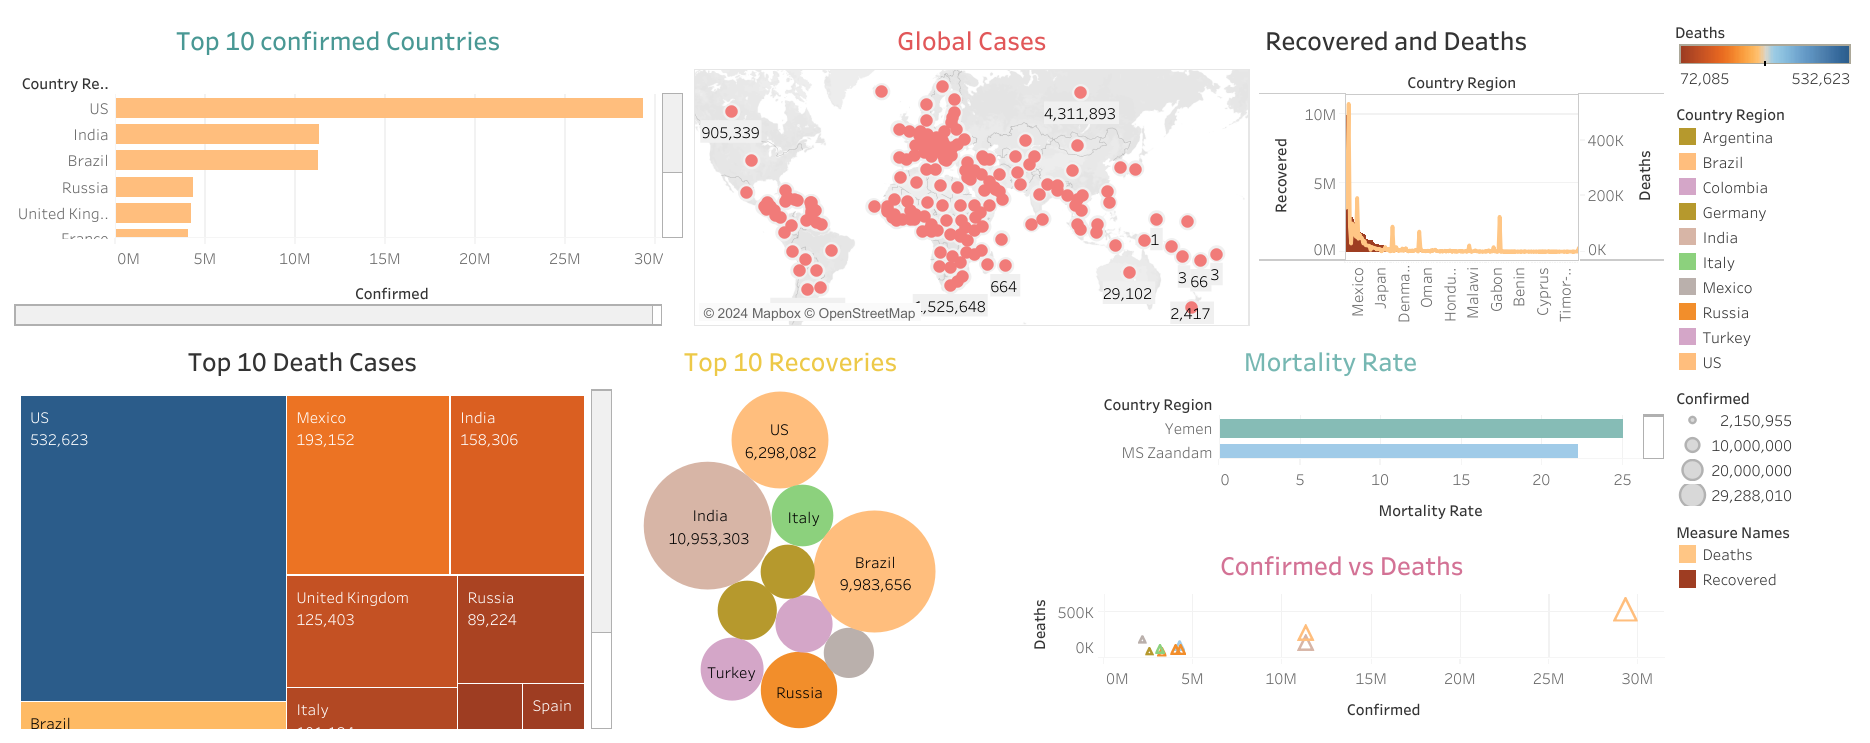

What the dashboard file says about the page in this screenshot:
{"tool":"tableau","page":{"name":"Dashboard 1","canvas":[1000,1000],"units":"permille","ordinal":0},"visuals":[{"type":"worksheet","title":"Top 10 Confirmed Countries","mark":"Automatic","rows":["Country Region"],"cols":["Confirmed"],"box":[4.8,10,367.1,434.4]},{"type":"worksheet","title":"Global Cases","mark":"Automatic","box":[371.9,10,306.4,434.4]},{"type":"worksheet","title":"Dual Axis","mark":"Line","rows":["Recovered","Deaths"],"cols":["Country Region"],"box":[678.2,10,224.6,434.4]},{"type":"legend","title":"Top 10 Death Cases","param":"[federated.1lehj6w1o3p8m61gr52o00f4w0u1].[sum:Deaths:qk]","box":[902.8,10,92.3,91.1]},{"type":"legend","title":"Top 10 Recovered Cases","param":"[federated.1lehj6w1o3p8m61gr52o00f4w0u1].[none:Country Region:nk]","box":[902.8,101.1,92.3,299.6]},{"type":"legend","title":"Confirmed vs Deaths","param":"[federated.1lehj6w1o3p8m61gr52o00f4w0u1].[sum:Confirmed:qk]","box":[902.8,400.8,92.3,142.3]},{"type":"worksheet","title":"Top 10 Death Cases","mark":"Automatic","box":[4.8,444.4,328.3,545.6]},{"type":"worksheet","title":"Top 10 Recovered Cases","mark":"Circle","box":[333.1,444.4,214.9,545.6]},{"type":"worksheet","title":"Mortality rate","mark":"Automatic","rows":["Country Region"],"cols":["Mortality Rate"],"box":[548,444.4,354.8,277.1]},{"type":"legend","title":"Dual Axis","param":"[federated.1lehj6w1o3p8m61gr52o00f4w0u1].[:Measure Names]","box":[902.8,543.1,92.3,89.9]},{"type":"worksheet","title":"Confirmed vs Deaths","mark":"Automatic","rows":["Deaths"],"cols":["Confirmed"],"box":[548,721.6,354.8,268.5]}]}

Visuals, with their boxes on the dashboard's canvas, which has no fixed pixel size, in thousandths of its width and height (x1, y1, x2, y2). These are canvas units, not pixel positions in the 1870x743 screenshot, which may show the page scaled, cropped or inside an application window:
"Top 10 Confirmed Countries" worksheet: <bbox>5, 10, 372, 444</bbox>
"Global Cases" worksheet: <bbox>372, 10, 678, 444</bbox>
"Dual Axis" worksheet (Line marks): <bbox>678, 10, 903, 444</bbox>
"Top 10 Death Cases" legend: <bbox>903, 10, 995, 101</bbox>
"Top 10 Recovered Cases" legend: <bbox>903, 101, 995, 401</bbox>
"Confirmed vs Deaths" legend: <bbox>903, 401, 995, 543</bbox>
"Top 10 Death Cases" worksheet: <bbox>5, 444, 333, 990</bbox>
"Top 10 Recovered Cases" worksheet (Circle marks): <bbox>333, 444, 548, 990</bbox>
"Mortality rate" worksheet: <bbox>548, 444, 903, 722</bbox>
"Dual Axis" legend: <bbox>903, 543, 995, 633</bbox>
"Confirmed vs Deaths" worksheet: <bbox>548, 722, 903, 990</bbox>
